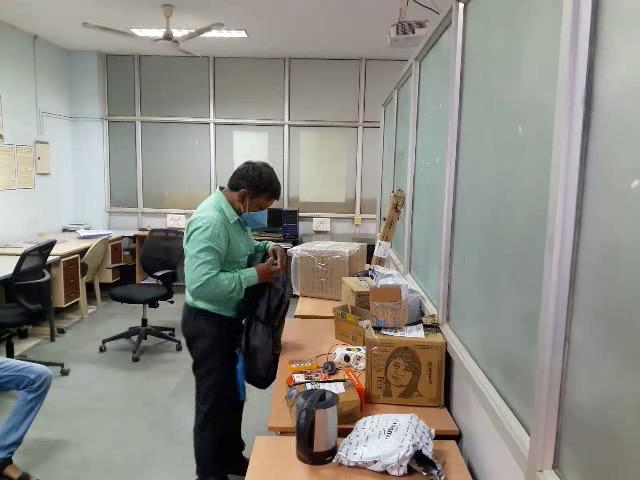shoplifting: (151, 216, 334, 412)
